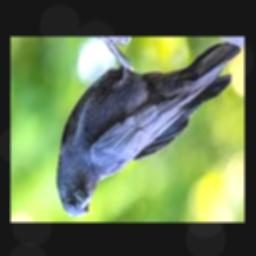Crow: (55, 38, 240, 218)
